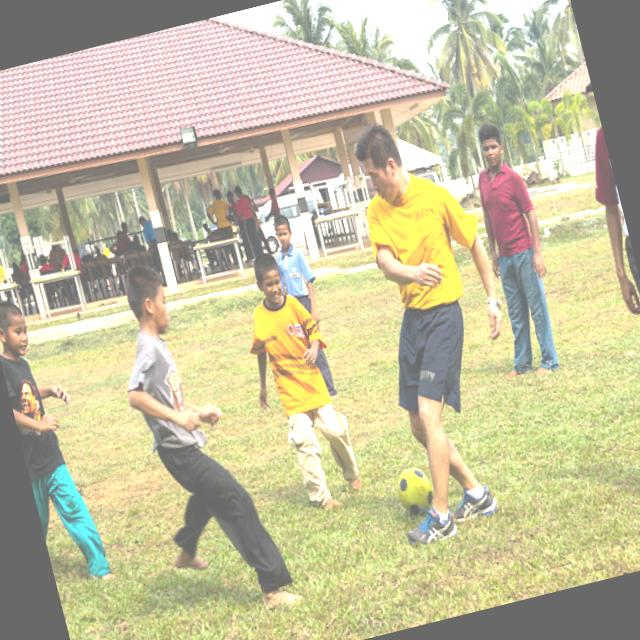Vehicle: (254, 186, 332, 254)
